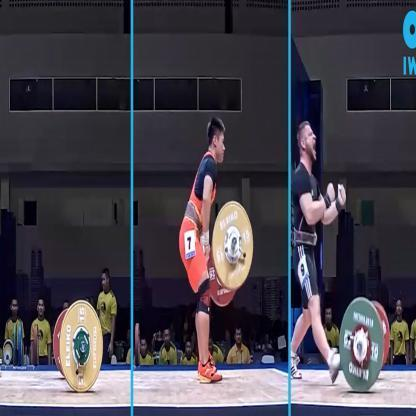barbell: (339, 297, 391, 396), (207, 202, 254, 309), (53, 300, 102, 393)
